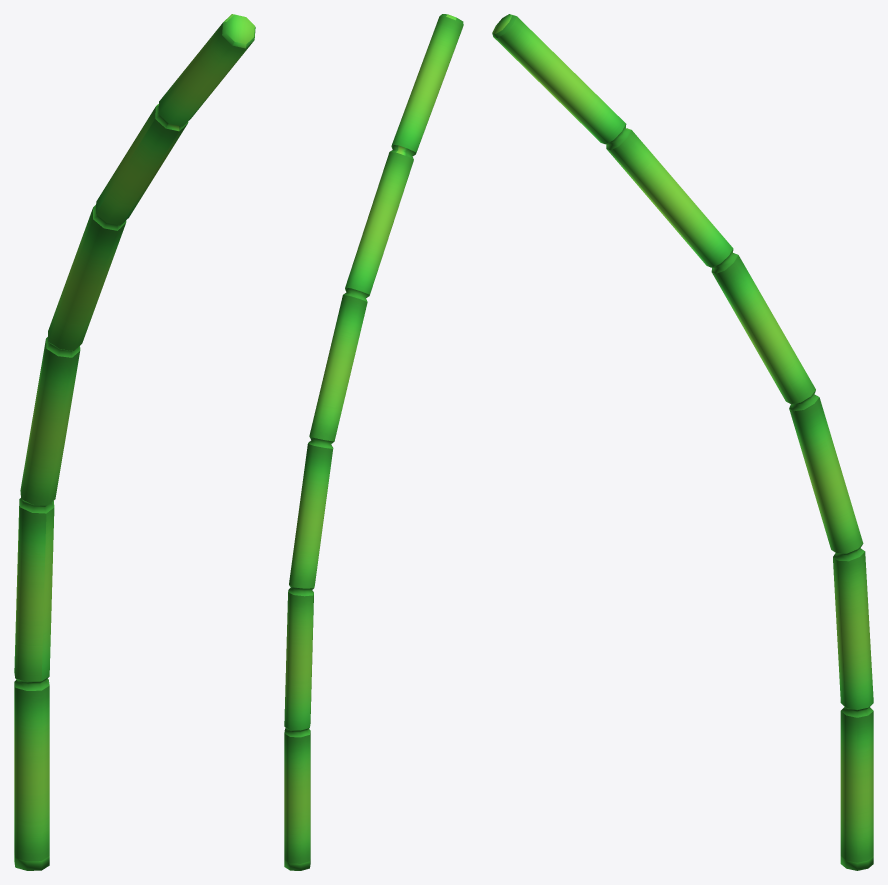
Rendered from bamboo_01.fbx.
The picture shows the model from 3 angles, left to right: view 1: azimuth 30°, elevation 25°; view 2: azimuth 150°, elevation 25°; view 3: azimuth 270°, elevation 25°; orthographic projection. The views are drawn at different scales.
Parts seen in each view (by area): view 1: Cube.034; view 2: Cube.034; view 3: Cube.034.
Boxes of the visible parts, x1,y1,x2,y2 form: Cube.034: (14,14,255,870); Cube.034: (284,14,463,870); Cube.034: (492,14,873,870).
Bounding box in the file's own units: 23.7 × 673 × 274.
